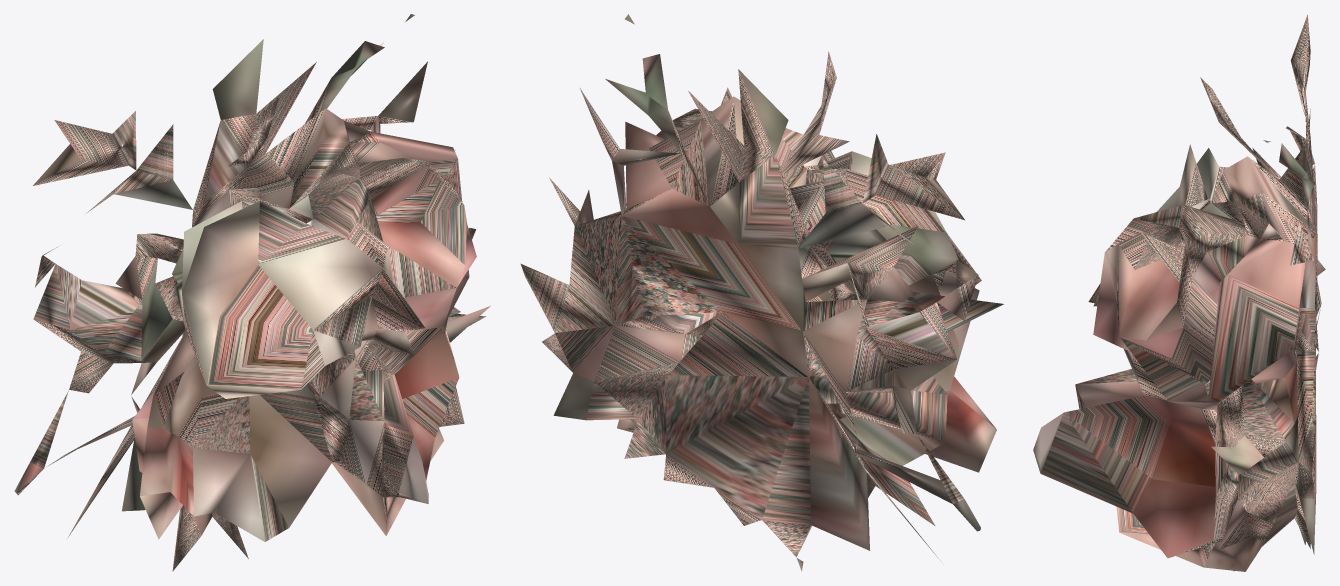
3 views of the same model, side by side, from view 1: azimuth 30°, elevation 25°; view 2: azimuth 150°, elevation 25°; view 3: azimuth 270°, elevation 25° (orthographic).
Visible parts, largest first — view 1: Rose-Bouquet-9-12; view 2: Rose-Bouquet-9-12; view 3: Rose-Bouquet-9-12.
Part boxes in pixels (left/top/right/bottom): Rose-Bouquet-9-12: left=14, top=14, right=490, bottom=571; Rose-Bouquet-9-12: left=520, top=14, right=1003, bottom=571; Rose-Bouquet-9-12: left=1033, top=14, right=1325, bottom=571.
Size of the model in its own units: 0.2445 by 0.2492 by 0.1357.
1 material, 1 textured.
